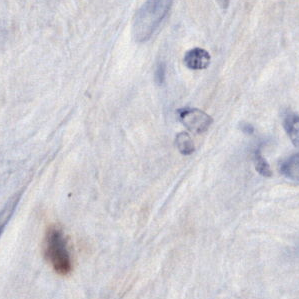Lymphocyte: (44, 226, 74, 276)
